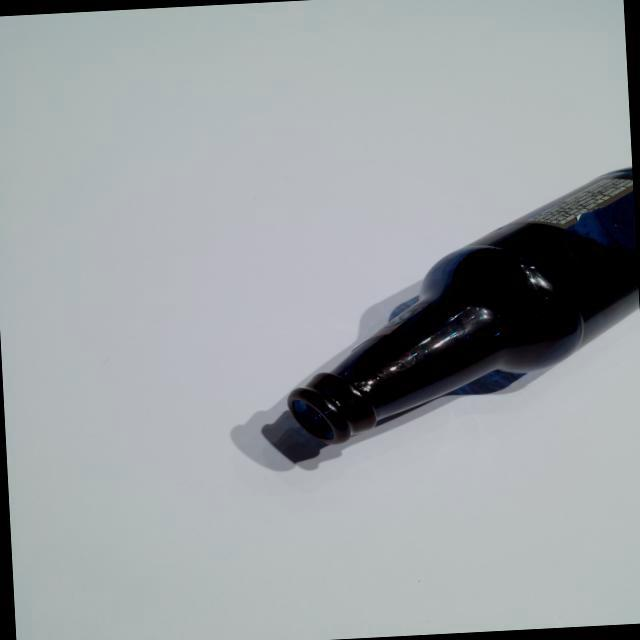glass: (240, 158, 640, 476)
